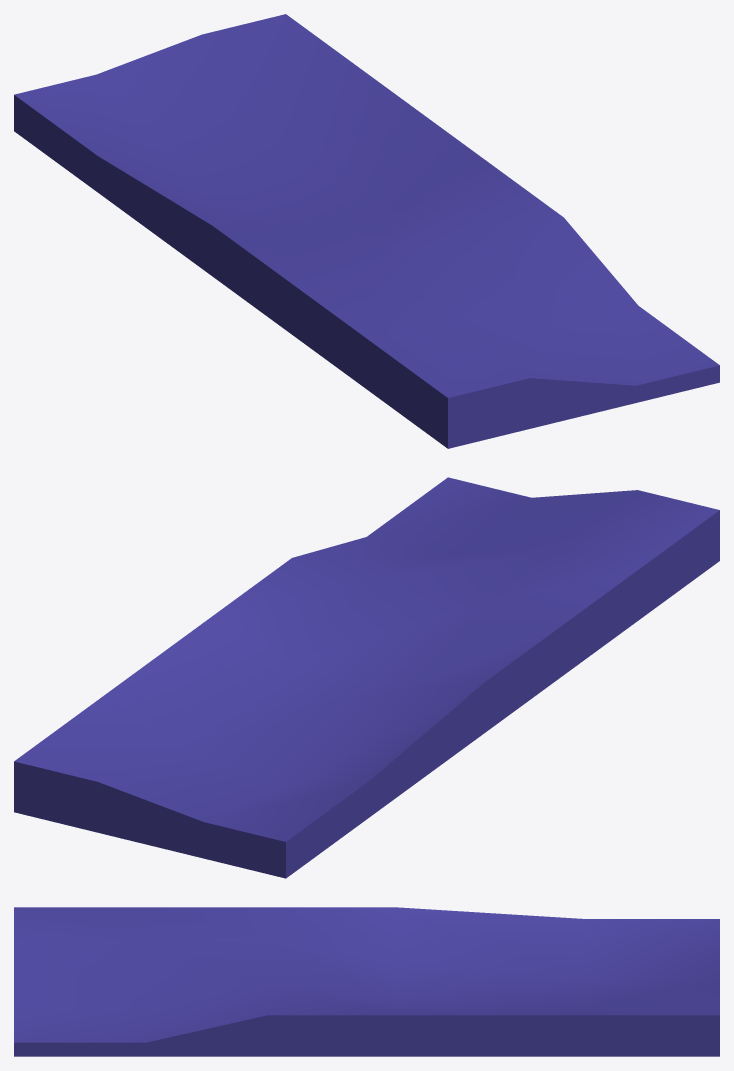
Rendered from road1.fbx.
3 renders of one model, top to bottom at view 1: azimuth 30°, elevation 25°; view 2: azimuth 150°, elevation 25°; view 3: azimuth 270°, elevation 25°, orthographic. The views are drawn at different scales.
Parts seen in each view (by area): view 1: pCube3; view 2: pCube3; view 3: pCube3.
Boxes of the visible parts, <box> form: pCube3: <box>14,14,719,448</box>; pCube3: <box>14,477,719,878</box>; pCube3: <box>14,907,719,1056</box>.
Bounding box in the file's own units: 77.97 × 13.93 × 216.
